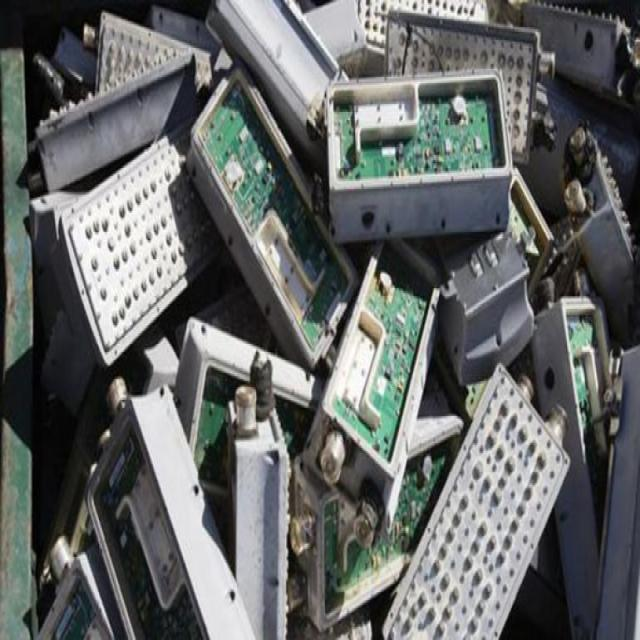Hazard: (20, 8, 640, 640)
